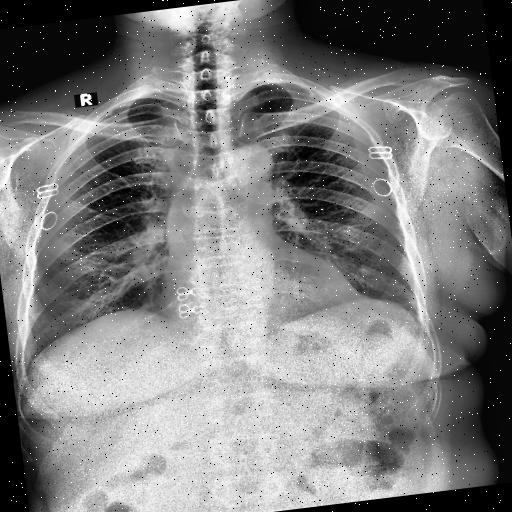0- Aortic enlargement: (160, 141, 280, 247), (224, 142, 276, 200), (224, 140, 272, 182)
11- Pleural thickening: (96, 98, 142, 120)
3- Cardiomegaly: (158, 269, 364, 335)
